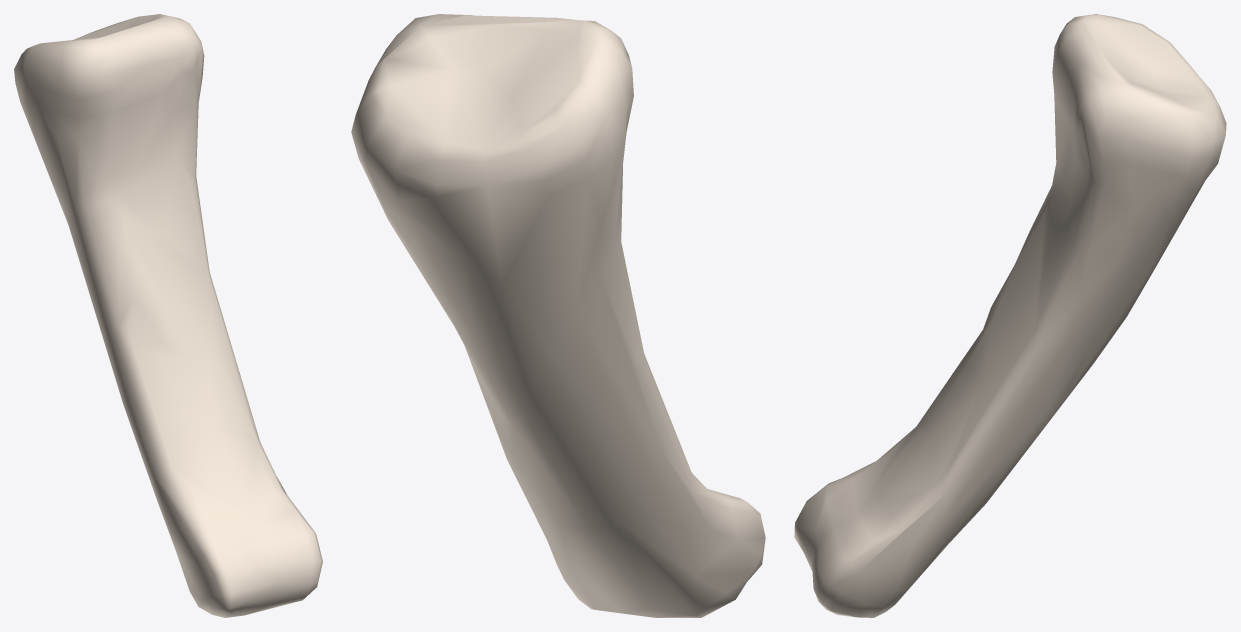
File: left_digit_4_proximal.glb
3 renders of one model, left to right at view 1: azimuth 30°, elevation 25°; view 2: azimuth 150°, elevation 25°; view 3: azimuth 270°, elevation 25°, orthographic. The views are drawn at different scales.
Parts seen in each view (by area): view 1: Proximal phalanx of 4th finger.r; view 2: Proximal phalanx of 4th finger.r; view 3: Proximal phalanx of 4th finger.r.
Boxes of the visible parts, x1,y1,x2,y2 form: Proximal phalanx of 4th finger.r: (14,14,322,617); Proximal phalanx of 4th finger.r: (351,14,765,617); Proximal phalanx of 4th finger.r: (794,14,1226,617).
Bounding box in the file's own units: 0.00798 × 0.0234 × 0.0166.
